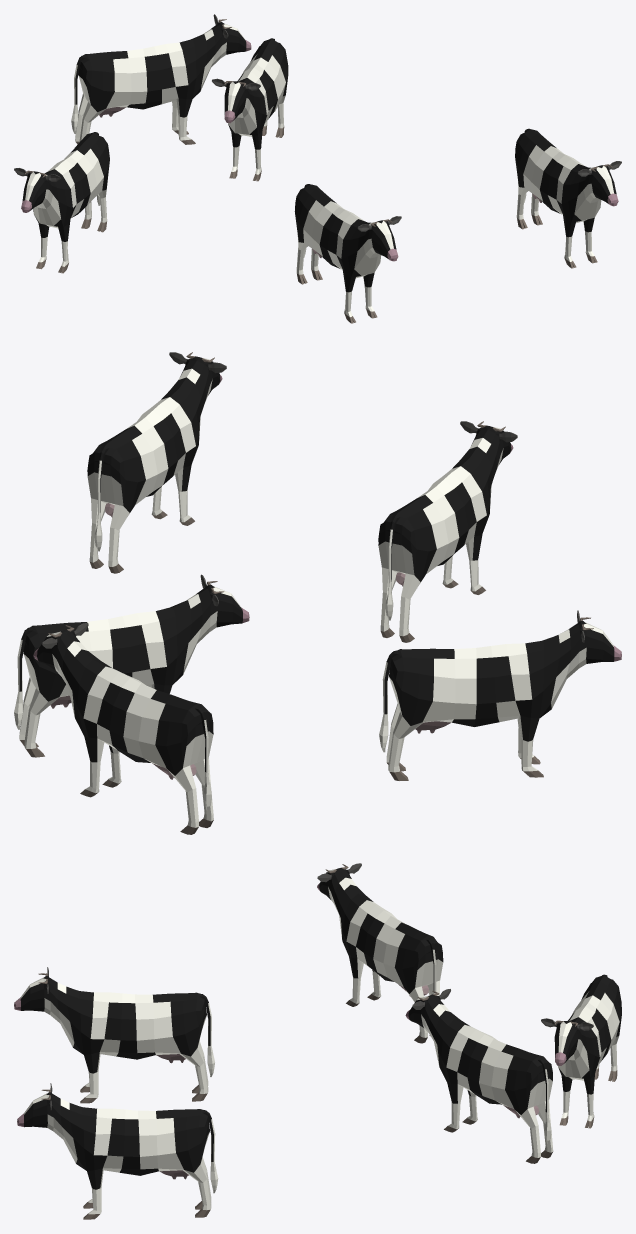
Rendered from COW.obj.
The picture shows the model from 3 angles, top to bottom: view 1: azimuth 30°, elevation 25°; view 2: azimuth 150°, elevation 25°; view 3: azimuth 270°, elevation 25°; orthographic projection. The views are drawn at different scales.
Parts seen in each view (by area): view 1: COW; view 2: COW; view 3: COW.
Part boxes in pixels (<box>): COW: <box>14,14,621,323</box>; COW: <box>14,352,621,834</box>; COW: <box>14,863,621,1219</box>.
Bounding box in the file's own units: 2.22 × 0.499 × 2.3.
1 material, 1 textured.
